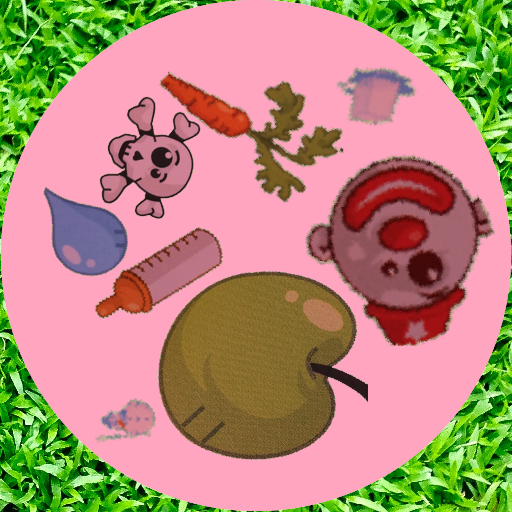apple_icon: (144, 242, 368, 466)
bottle_icon: (85, 203, 231, 349)
carrot_icon: (145, 37, 344, 236)
clown_icon: (302, 153, 495, 346)
cube_icon: (333, 57, 418, 142)
raindrop_icon: (33, 181, 134, 282)
skull_icon: (83, 96, 218, 231)
snowman_icon: (93, 394, 157, 458)
